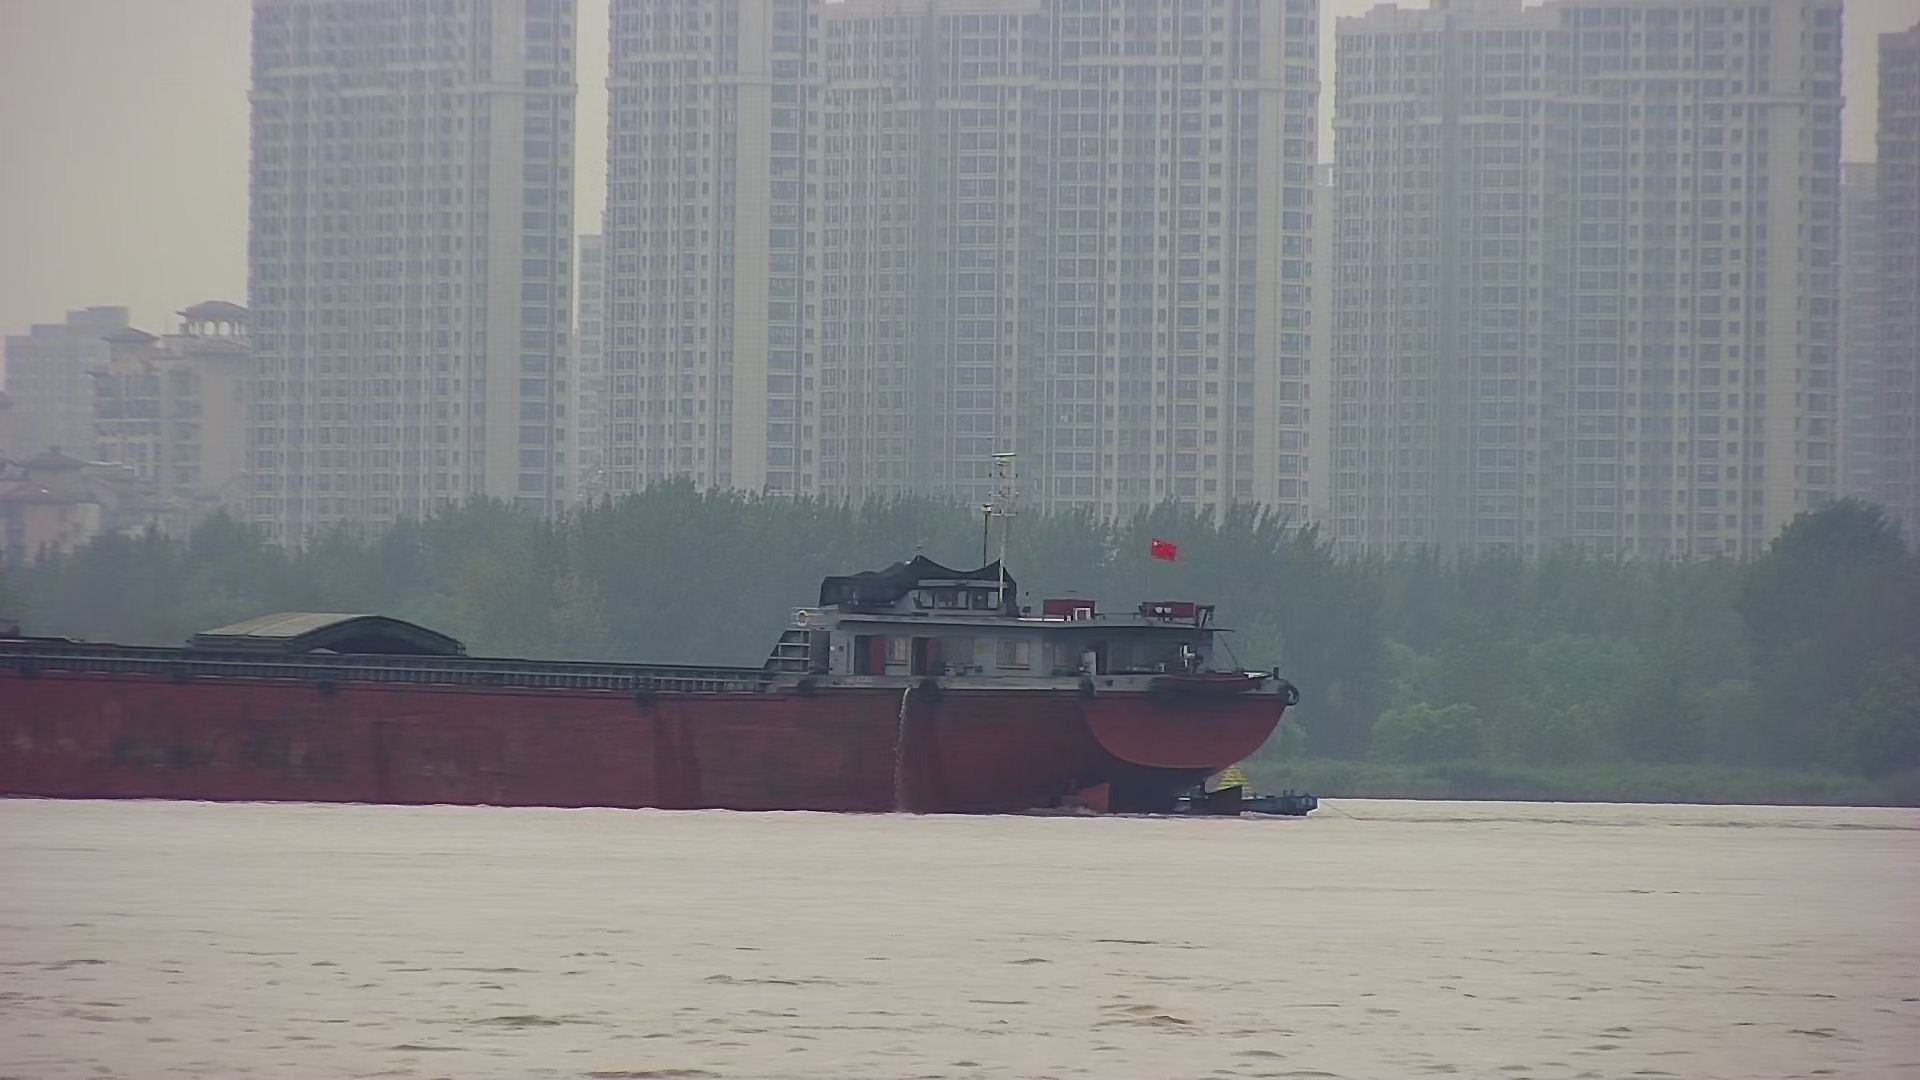boat: (1172, 749, 1321, 820)
ship: (3, 479, 1298, 818)
